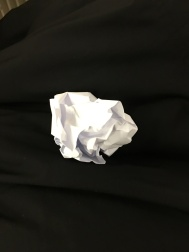paper_brown: (39, 85, 150, 171)
